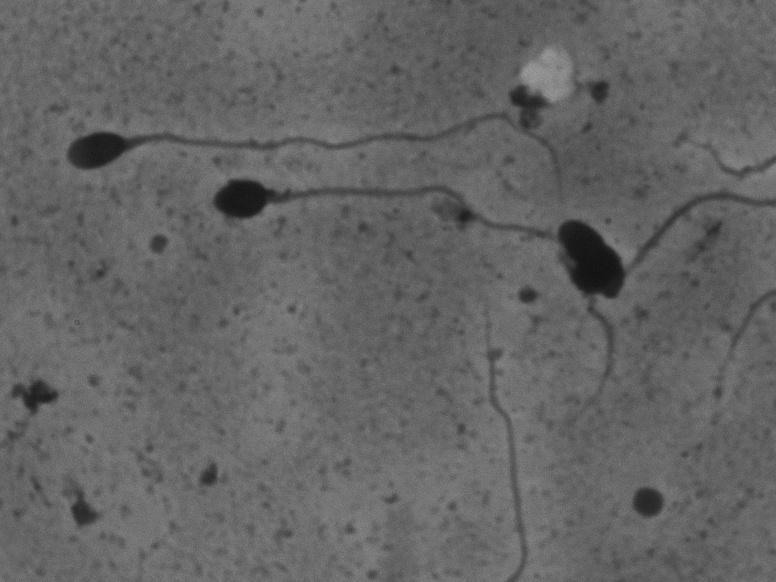Abnormal: (193, 173, 628, 436)
Normal: (51, 77, 515, 178)
